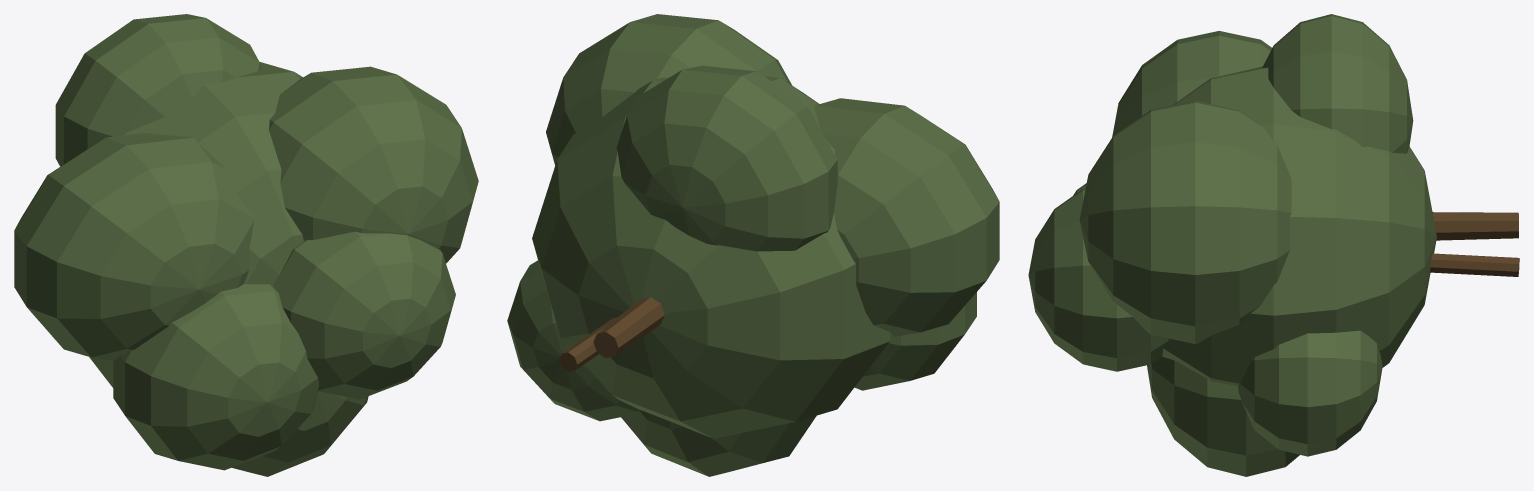
The model's file is snow_bush_large.obj.
3 renders of one model, left to right at view 1: azimuth 30°, elevation 25°; view 2: azimuth 150°, elevation 25°; view 3: azimuth 270°, elevation 25°, orthographic. The views are drawn at different scales.
Parts seen in each view (by area): view 1: snow_bush_large_leaf; view 2: snow_bush_large_leaf, snow_bush_large_wood; view 3: snow_bush_large_leaf, snow_bush_large_wood.
Part boxes in pixels (x1,y1,x2,y2): snow_bush_large_leaf: (14, 14, 478, 476); snow_bush_large_leaf: (507, 14, 999, 476); snow_bush_large_wood: (559, 297, 664, 371); snow_bush_large_leaf: (1028, 14, 1436, 476); snow_bush_large_wood: (1430, 212, 1519, 276).
Size of the model in its own units: 1.4 by 1.35 by 1.44.
